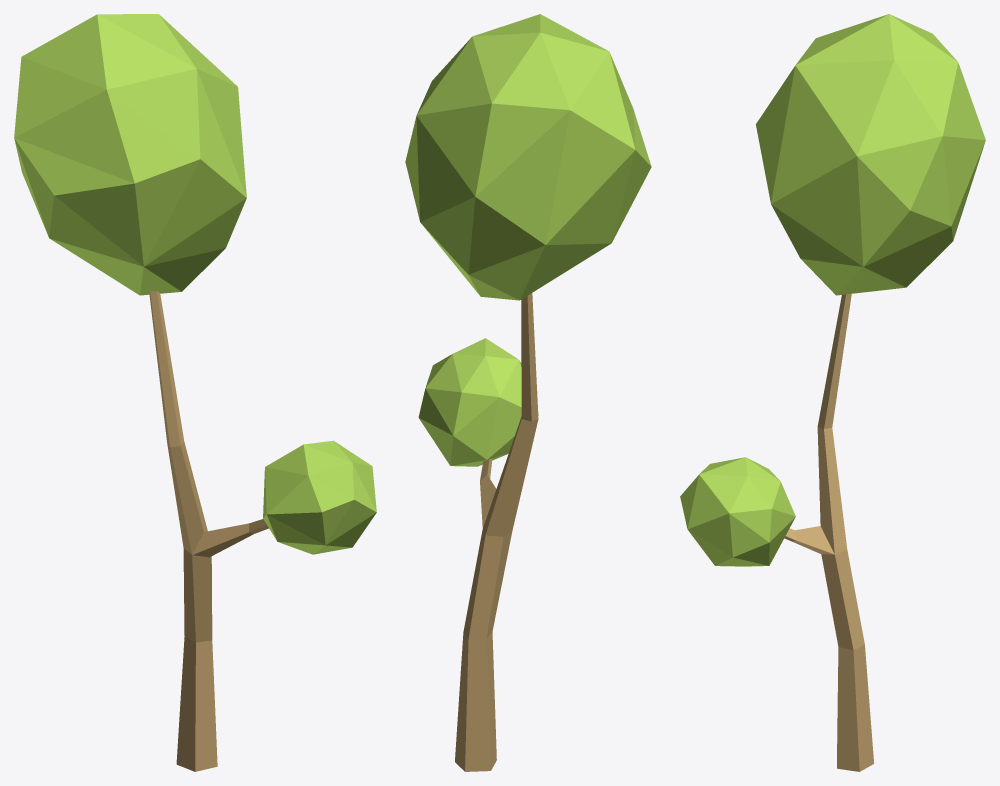
Rendered from Simple_Tree_s_BT_02.fbx.
The picture shows the model from 3 angles, left to right: view 1: azimuth 30°, elevation 25°; view 2: azimuth 150°, elevation 25°; view 3: azimuth 270°, elevation 25°; orthographic projection. The views are drawn at different scales.
Parts seen in each view (by area): view 1: Simple_Tree_s_BT_02; view 2: Simple_Tree_s_BT_02; view 3: Simple_Tree_s_BT_02.
Part boxes in pixels (x1,y1,x2,y2): Simple_Tree_s_BT_02: (14, 14, 376, 771); Simple_Tree_s_BT_02: (405, 14, 651, 771); Simple_Tree_s_BT_02: (680, 14, 985, 771).
Bounding box in the file's own units: 148 × 382 × 149.
